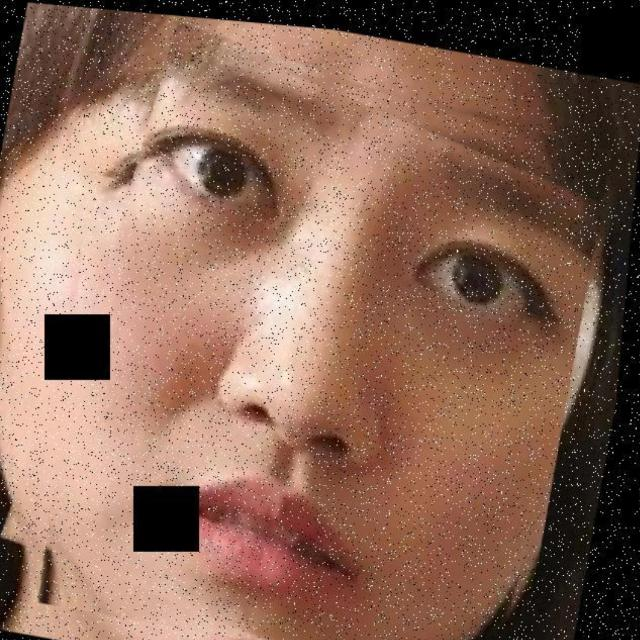Disgust: (70, 6, 575, 640)
